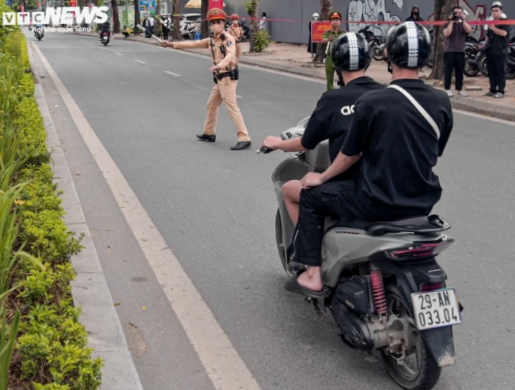Bien-so: (407, 287, 464, 334)
